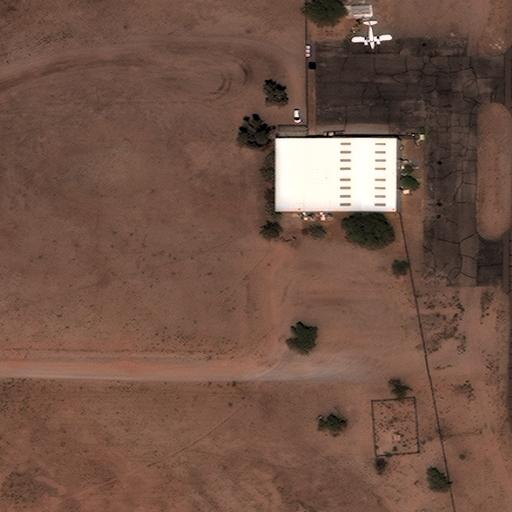Small Civil Transport: (351, 20, 391, 48)
